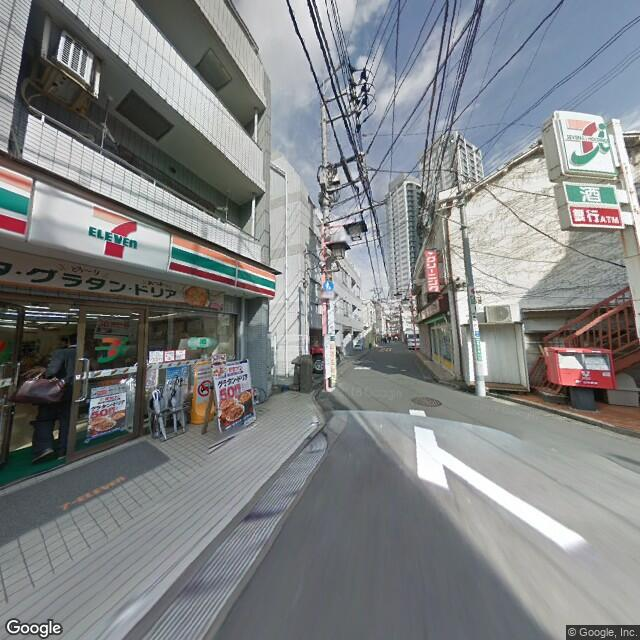7-eleven: (1, 162, 277, 298), (556, 110, 616, 176), (96, 329, 128, 365)
